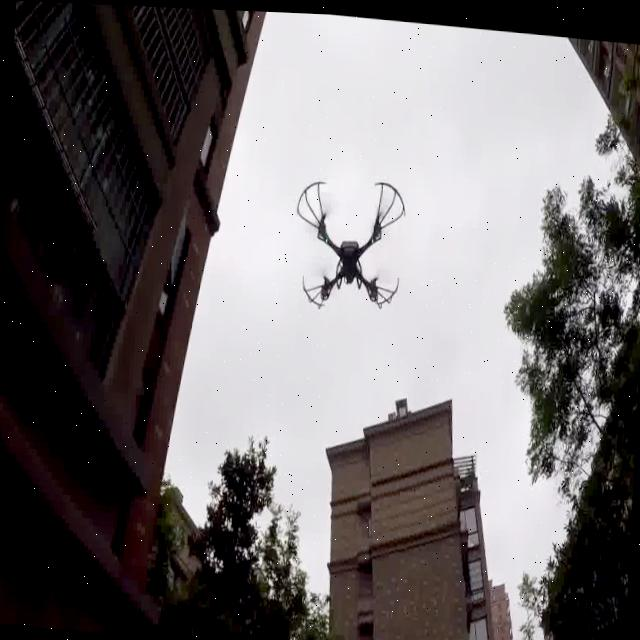drone: (284, 165, 408, 320)
